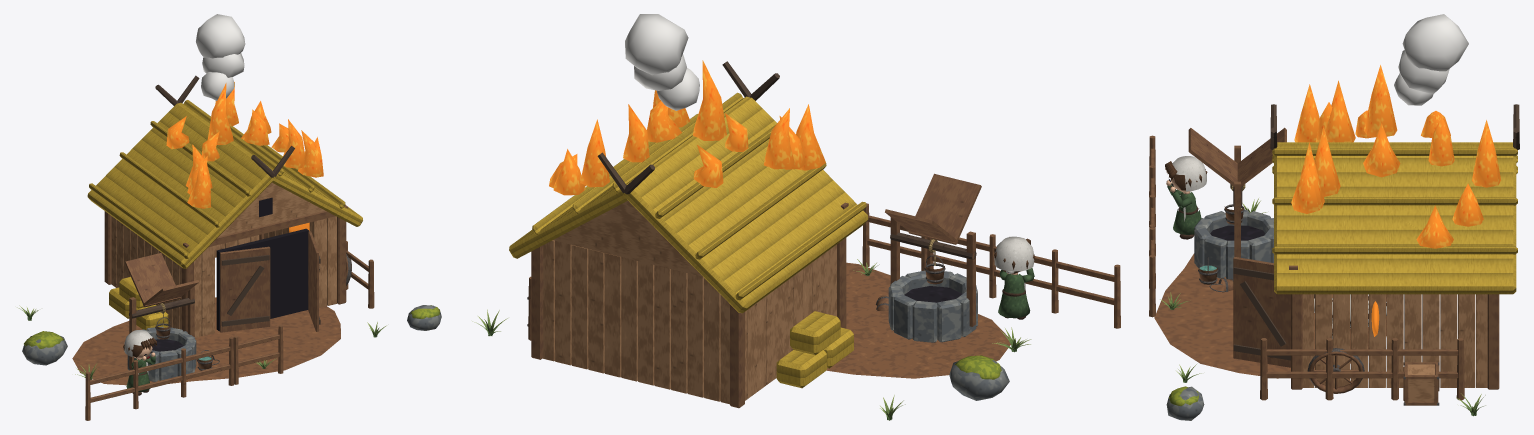
Rendered from ev07_barn.glb.
The picture shows the model from 3 angles, left to right: view 1: azimuth 30°, elevation 25°; view 2: azimuth 150°, elevation 25°; view 3: azimuth 270°, elevation 25°; orthographic projection. The views are drawn at different scales.
Parts seen in each view (by area): view 1: ev07_barn_barn, ev07_barn_roof, ev07_barn_ground_details, ev07_barn_fire, ev07_barn_props, ev07_barn_people; view 2: ev07_barn_barn, ev07_barn_roof, ev07_barn_props, ev07_barn_ground_details, ev07_barn_fire, ev07_barn_people, ev07_barn_plants; view 3: ev07_barn_roof, ev07_barn_barn, ev07_barn_fire, ev07_barn_ground_details, ev07_barn_props, ev07_barn_people, ev07_barn_plants.
Part boxes in pixels (x1,y1,x2,y2): ev07_barn_barn: (104, 182, 347, 337); ev07_barn_roof: (87, 75, 362, 268); ev07_barn_ground_details: (22, 241, 441, 420); ev07_barn_fire: (166, 14, 323, 232); ev07_barn_props: (109, 253, 351, 381); ev07_barn_people: (123, 330, 156, 395); ev07_barn_barn: (531, 201, 848, 408); ev07_barn_roof: (509, 61, 868, 313); ev07_barn_props: (527, 173, 981, 388); ev07_barn_ground_details: (528, 203, 1120, 400); ev07_barn_fire: (549, 14, 825, 195); ev07_barn_people: (994, 236, 1034, 319); ev07_barn_plants: (472, 259, 1031, 420); ev07_barn_roof: (1270, 104, 1519, 294); ev07_barn_barn: (1233, 257, 1499, 389); ev07_barn_fire: (1291, 14, 1501, 336); ev07_barn_ground_details: (1149, 135, 1464, 420); ev07_barn_props: (1188, 127, 1439, 405); ev07_barn_people: (1165, 156, 1207, 239); ev07_barn_plants: (1160, 198, 1485, 416).
Size of what is drawn, in the model's own units: 8.21 by 5.69 by 5.65.
Materials: 26 (26 with a texture image).
